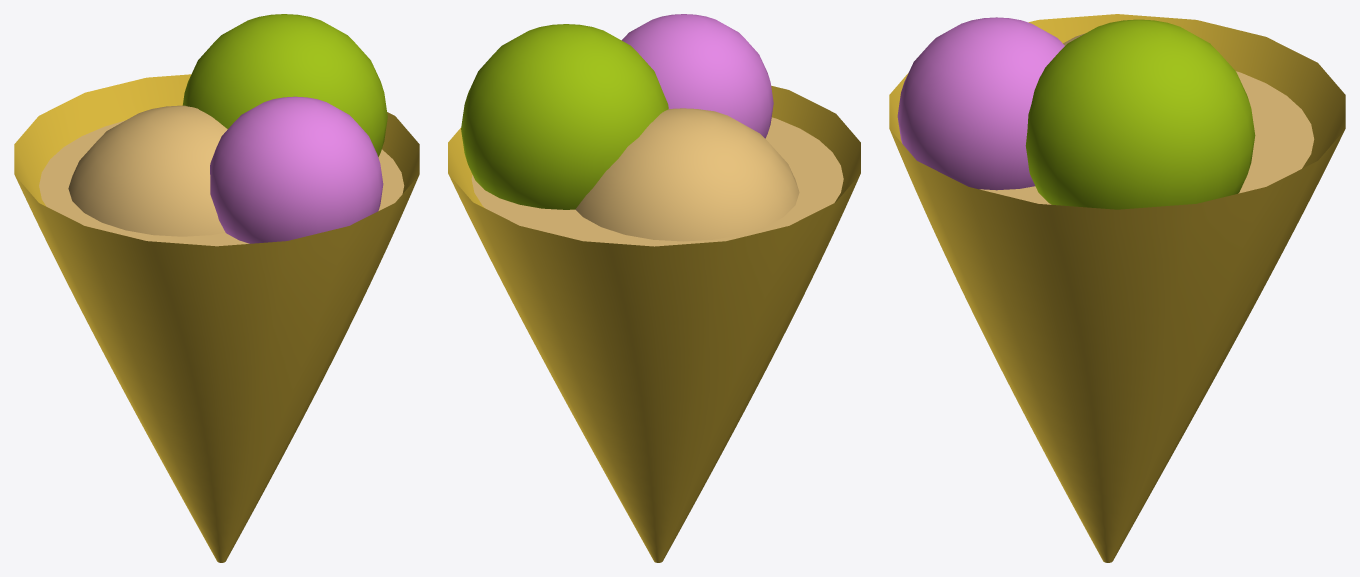
Rendered from glace.fbx.
3 views of the same model, side by side, from view 1: azimuth 30°, elevation 25°; view 2: azimuth 150°, elevation 25°; view 3: azimuth 270°, elevation 25° (orthographic). The views are drawn at different scales.
Parts seen in each view (by area): view 1: Sphère_3, Cône, Sphère, Sphère_1, Disque; view 2: Sphère_3, Cône, Sphère, Sphère_1, Disque; view 3: Sphère_3, Cône, Sphère, Sphère_1.
Part boxes in pixels (x1=…): Sphère_3: x1=14, y1=14, x2=419, y2=562; Cône: x1=14, y1=74, x2=416, y2=562; Sphère: x1=185, y1=14, x2=387, y2=150; Sphère_1: x1=211, y1=96, x2=383, y2=240; Disque: x1=39, y1=126, x2=403, y2=245; Sphère_3: x1=448, y1=14, x2=860, y2=562; Cône: x1=448, y1=111, x2=860, y2=561; Sphère: x1=461, y1=24, x2=668, y2=209; Sphère_1: x1=630, y1=14, x2=769, y2=137; Disque: x1=472, y1=124, x2=842, y2=243; Sphère_3: x1=889, y1=14, x2=1345, y2=562; Cône: x1=889, y1=14, x2=1344, y2=560; Sphère: x1=1026, y1=19, x2=1254, y2=208; Sphère_1: x1=897, y1=17, x2=1060, y2=188.
Bounding box in the file's own units: 187 × 255 × 184.
